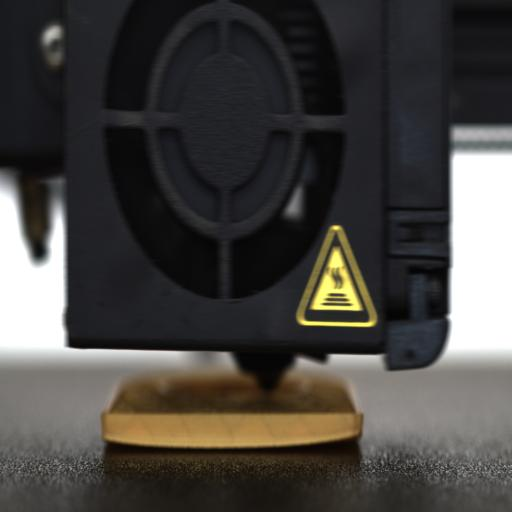warp: (97, 431, 174, 453), (304, 425, 364, 453)
